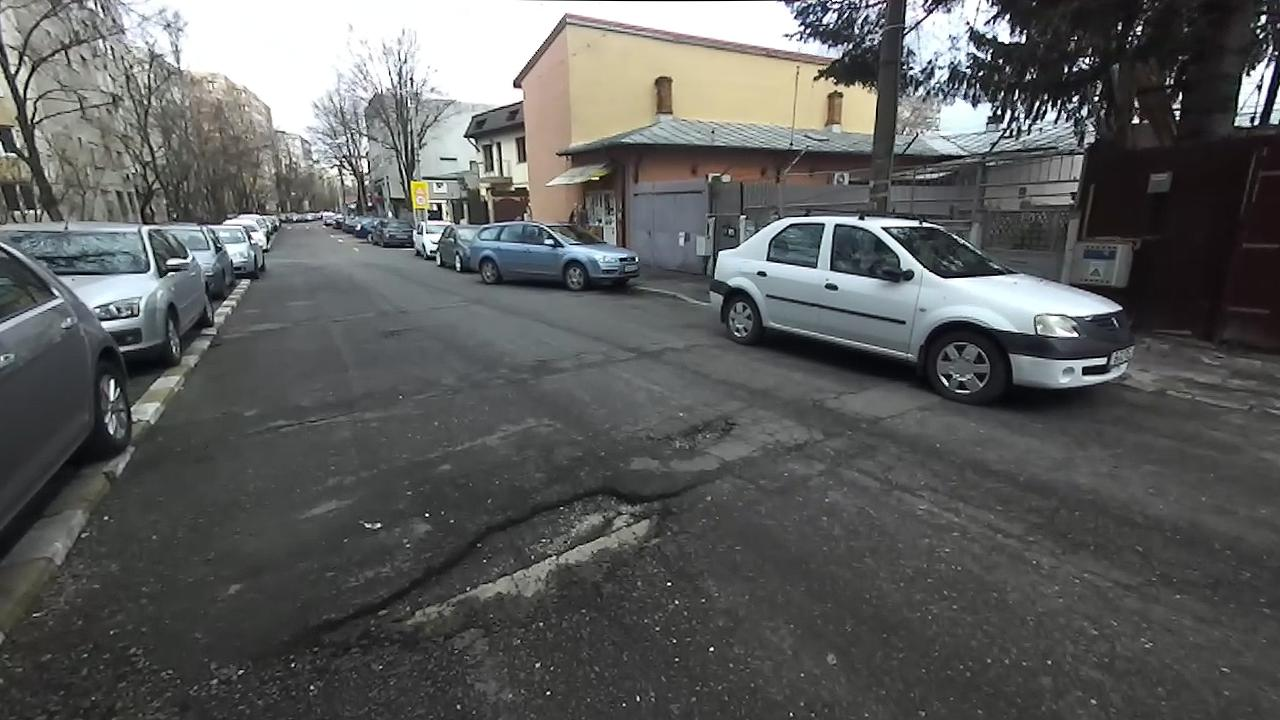pothole: (284, 475, 709, 658), (644, 399, 749, 457), (249, 396, 368, 440)
